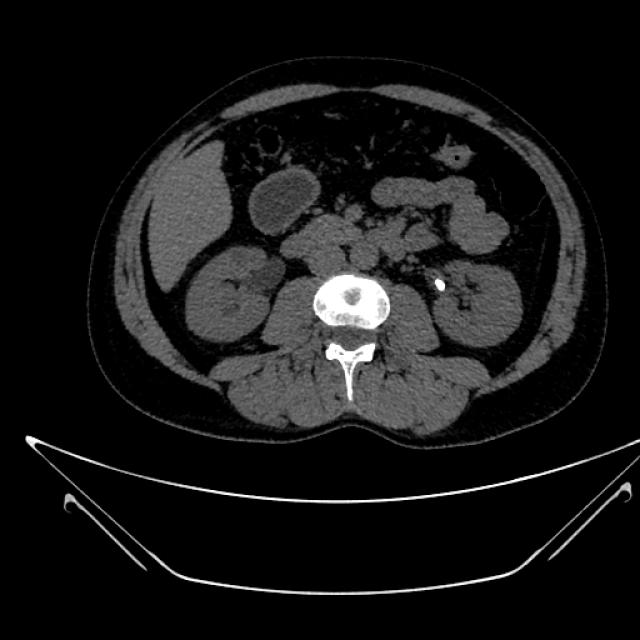kidneystone: (427, 269, 448, 292)
